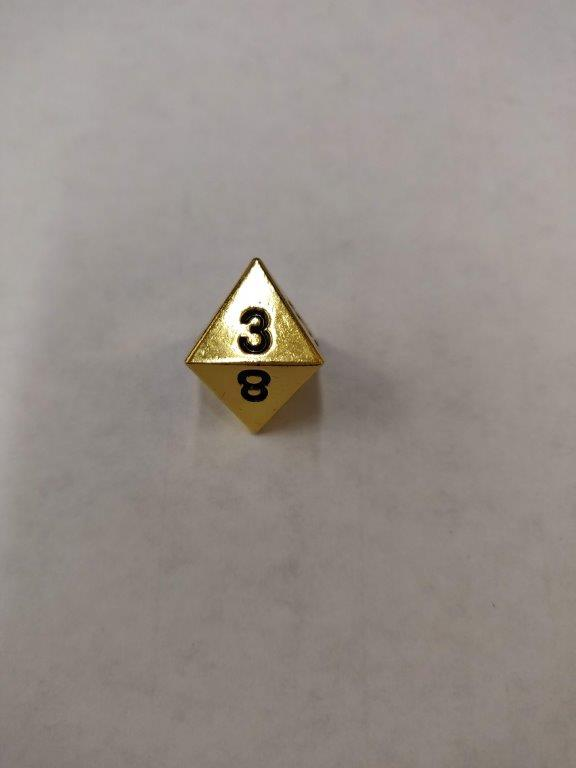d8-3: (183, 256, 323, 438)
